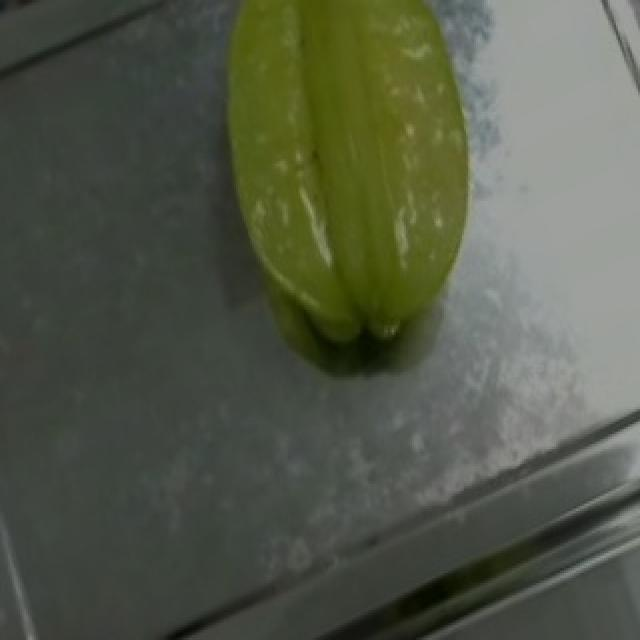fruit: (132, 0, 536, 340)
